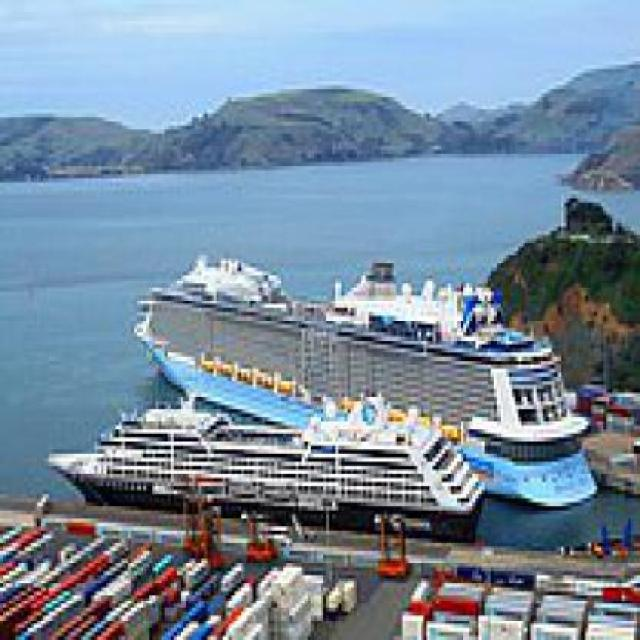cruise: (129, 240, 613, 520), (41, 386, 501, 549)
